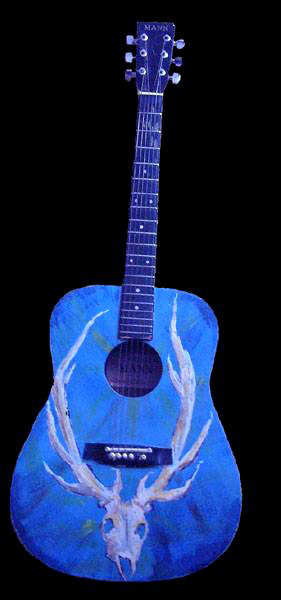guitar: (12, 21, 242, 584)
